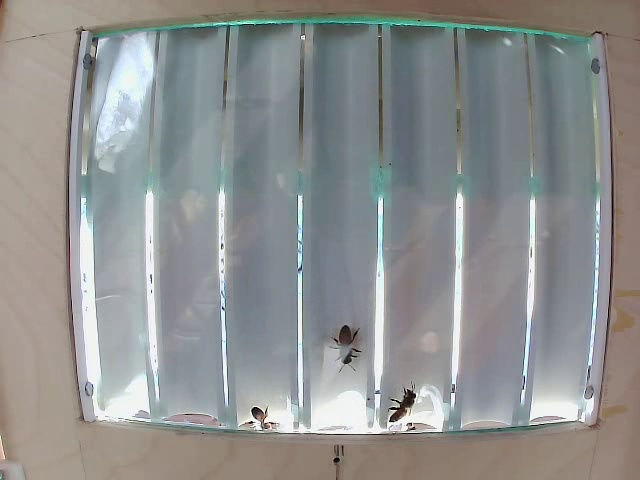bee: (325, 316, 366, 365), (384, 375, 416, 423)
